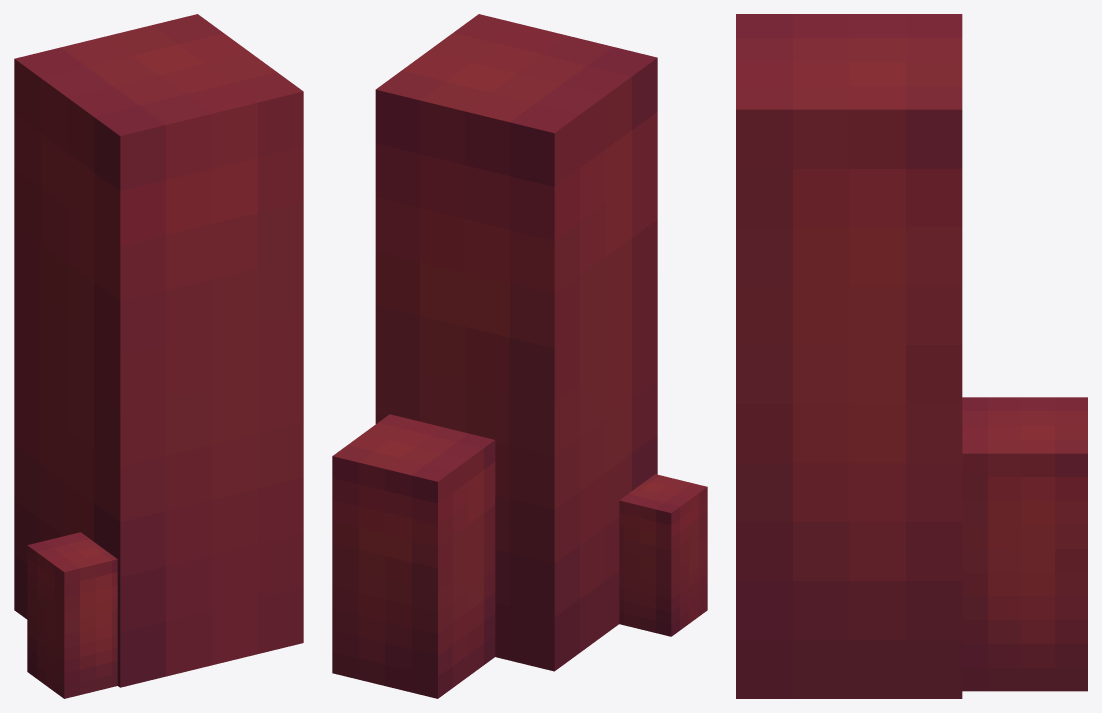
Rendered from cinnabar_crystal_three.obj.
The picture shows the model from 3 angles, left to right: view 1: azimuth 30°, elevation 25°; view 2: azimuth 150°, elevation 25°; view 3: azimuth 270°, elevation 25°; orthographic projection. The views are drawn at different scales.
Parts seen in each view (by area): view 1: Crystal5_Cube.008; view 2: Crystal5_Cube.008; view 3: Crystal5_Cube.008.
Part boxes in pixels (x1,y1,x2,y2): Crystal5_Cube.008: [14, 14, 303, 698]; Crystal5_Cube.008: [332, 14, 707, 698]; Crystal5_Cube.008: [736, 14, 1087, 698].
Bounding box in the file's own units: 0.1959 × 0.4361 × 0.2358.
